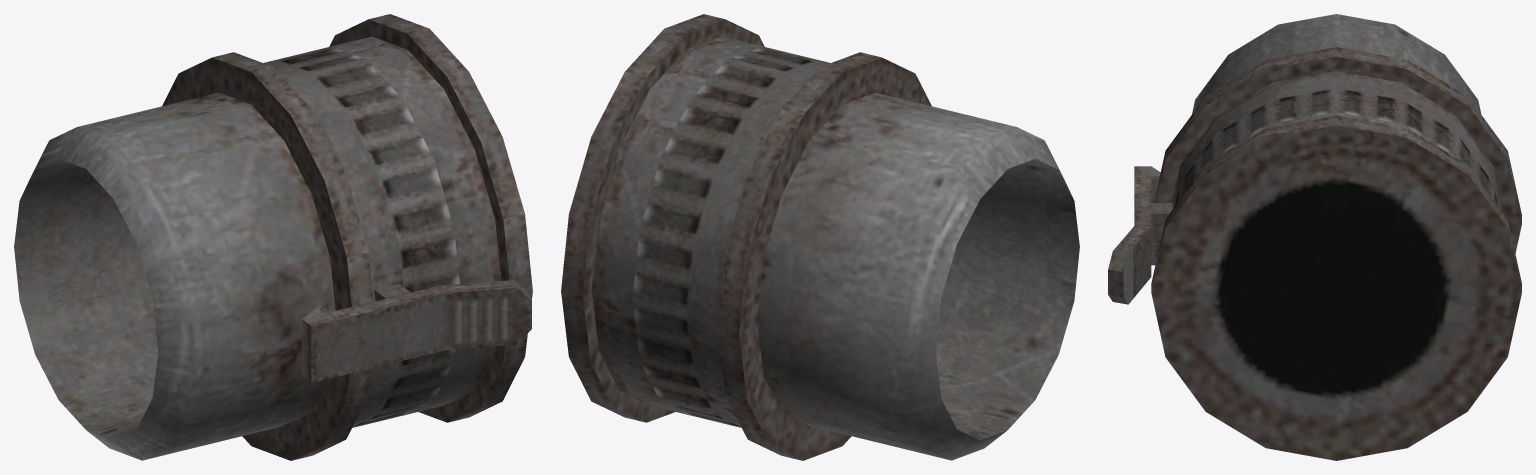
Rendered from p_rus_hose_modular_connect_end_LOD0.obj.
The picture shows the model from 3 angles, left to right: view 1: azimuth 30°, elevation 25°; view 2: azimuth 150°, elevation 25°; view 3: azimuth 270°, elevation 25°; orthographic projection. The views are drawn at different scales.
Parts seen in each view (by area): view 1: mtl_p_rus_hose_fitting_end; view 2: mtl_p_rus_hose_fitting_end; view 3: mtl_p_rus_hose_fitting_end.
Boxes of the visible parts, <box> form: mtl_p_rus_hose_fitting_end: <box>14,14,532,460</box>; mtl_p_rus_hose_fitting_end: <box>561,14,1079,460</box>; mtl_p_rus_hose_fitting_end: <box>1108,14,1521,460</box>.
Bounding box in the file's own units: 27.89 × 29.02 × 32.41.
